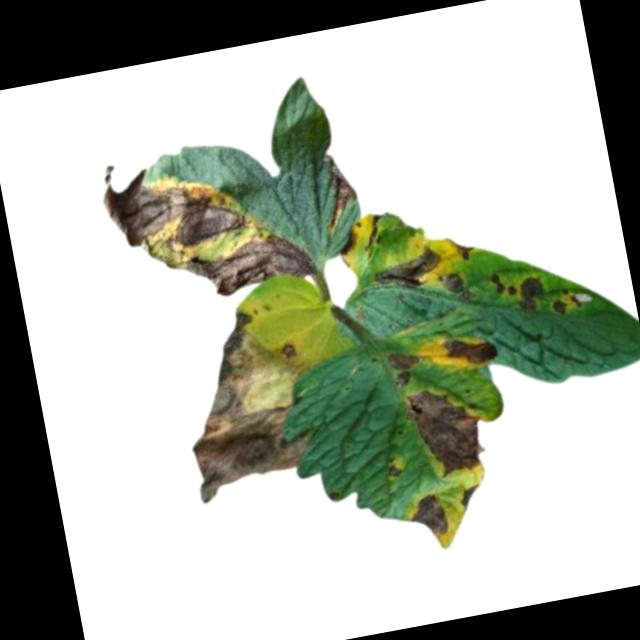Early_blight: (167, 299, 325, 507), (97, 139, 269, 261), (163, 225, 318, 306), (401, 377, 491, 483), (369, 244, 444, 299), (314, 149, 361, 231), (435, 327, 504, 375), (406, 486, 450, 540), (387, 348, 426, 391), (516, 274, 549, 309), (548, 284, 583, 317), (442, 270, 476, 300), (447, 236, 479, 267), (456, 481, 484, 511), (489, 269, 519, 297), (337, 229, 363, 258), (385, 451, 404, 479)
